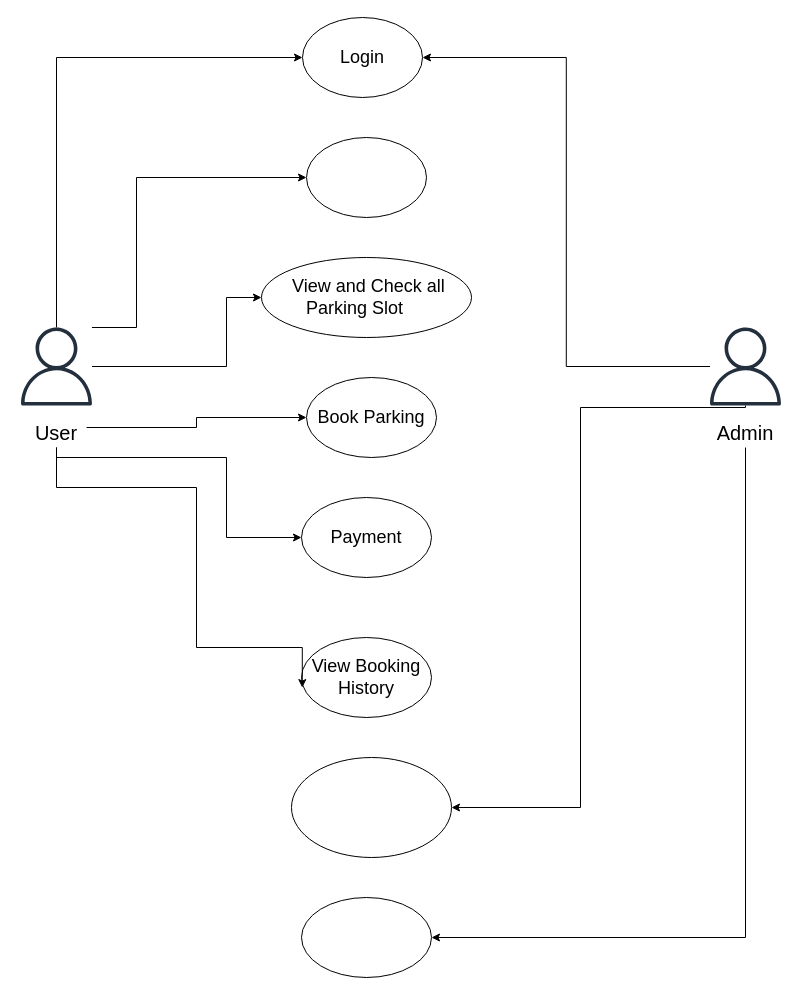
Some shapes in this 801 by 995 pixel diagram are drawn without their labels. The centre of each missing label's shape, as x and y in pixels:
"Manage Bookings" goes at [366,937].
"Sign Up" goes at [366,177].
"View All Users Booking Data" goes at [371,807].
